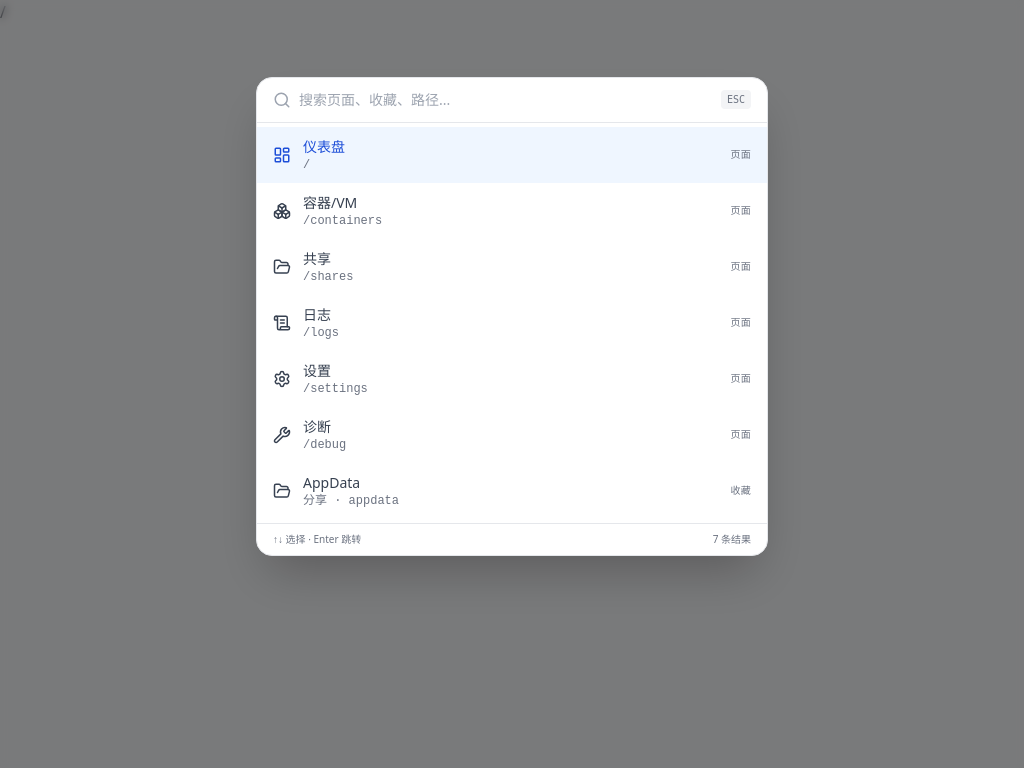
it: GlobalSearch › share 收藏项点击跳到 /shares/<name>(pathname 风格)
What coordinates should you click on to do the following:
click the text "AppData"
I would click on:
 (332, 482)
Its box is 303,473 -> 360,492.
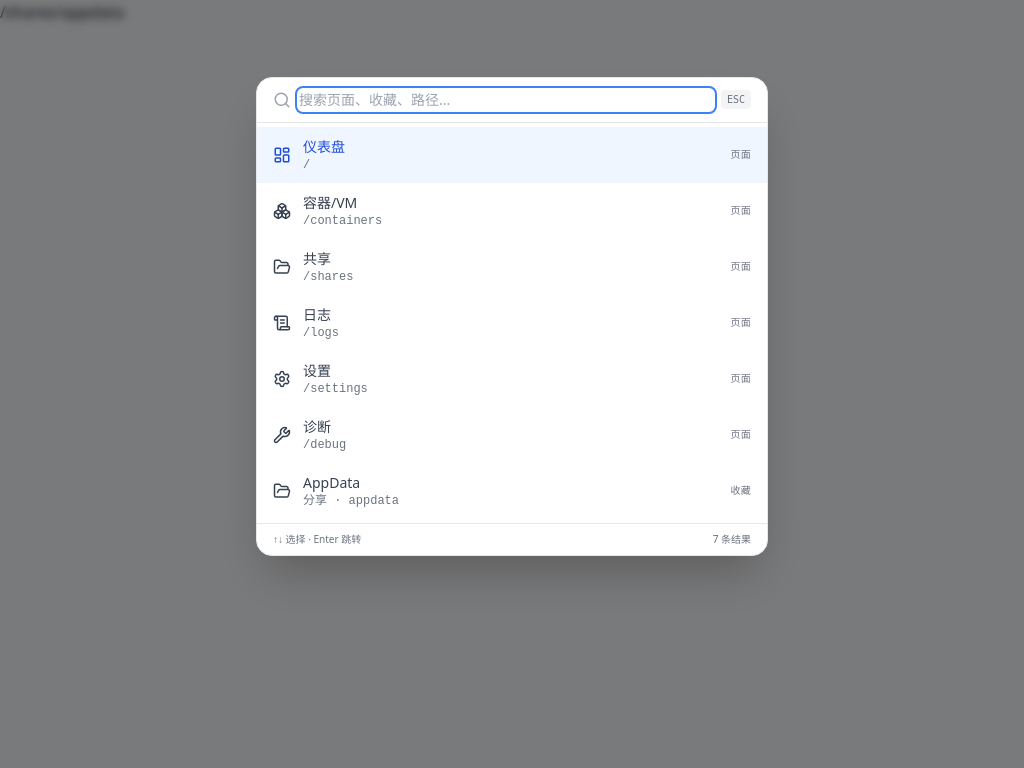
Expected: the text with test id "loc" reads "/shares/appdata", 0,1 -> 124,23
